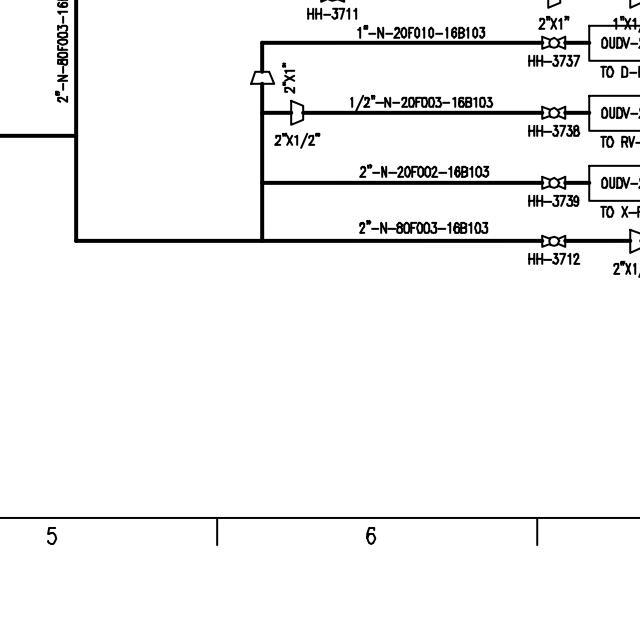BV2: (539, 33, 569, 52), (539, 173, 568, 192), (539, 232, 568, 249), (540, 103, 568, 120)
SP: (287, 97, 307, 127), (248, 68, 276, 87)
